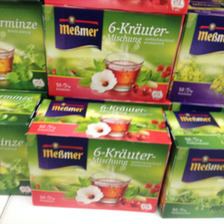tea: (25, 96, 173, 214), (42, 5, 185, 103), (161, 111, 224, 219)
